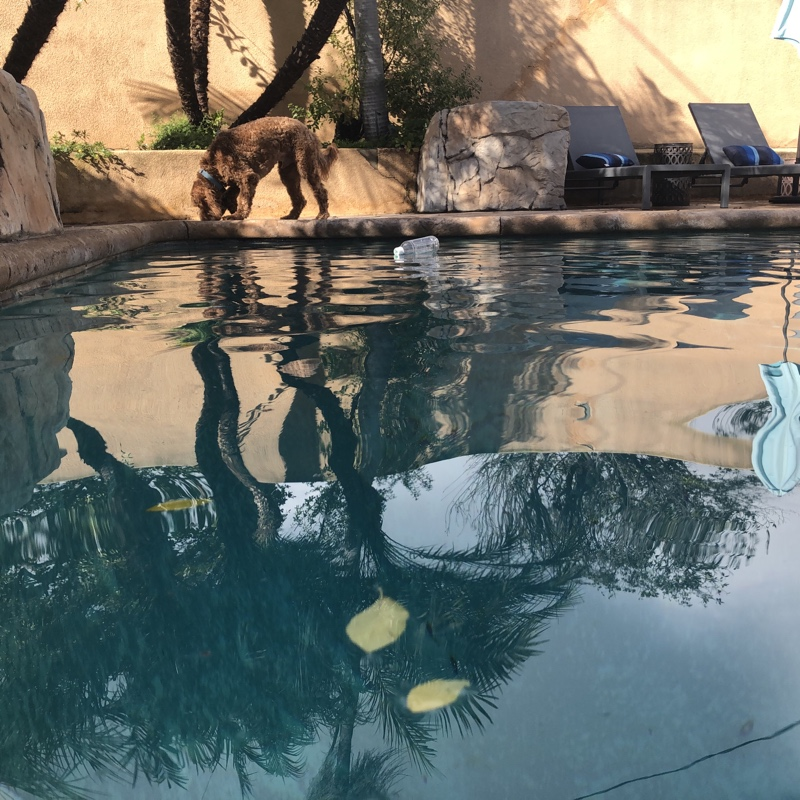Plastic Bottle: (392, 235, 440, 260)
